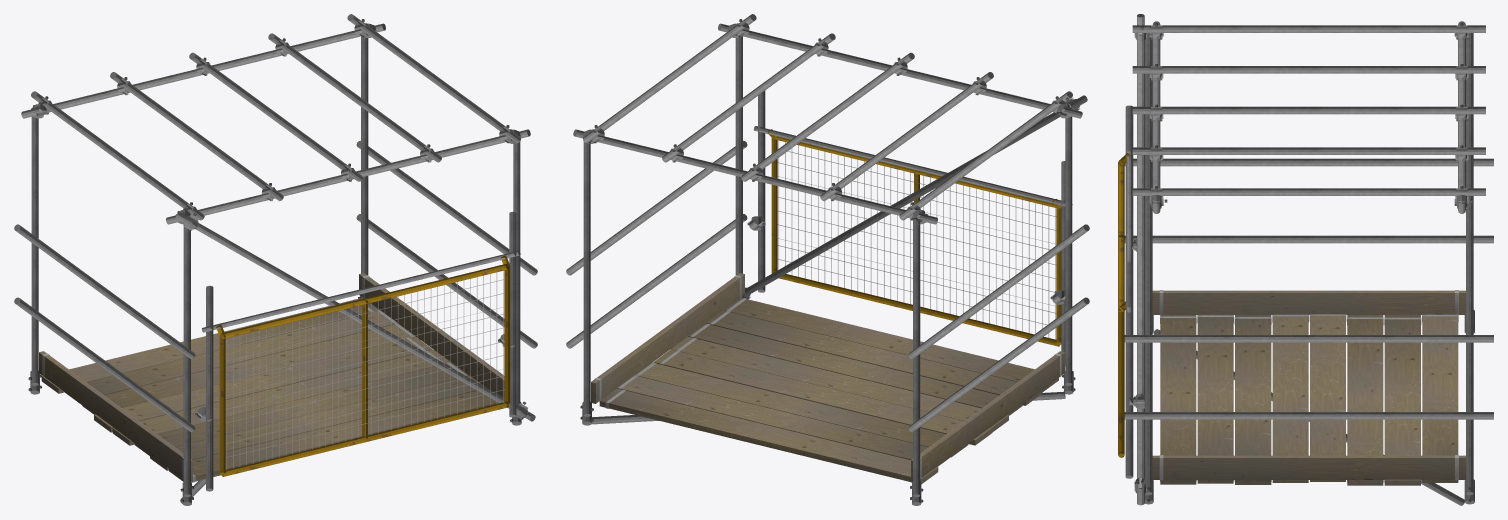
The model's file is LoadingBay.glb.
3 renders of one model, left to right at view 1: azimuth 30°, elevation 25°; view 2: azimuth 150°, elevation 25°; view 3: azimuth 270°, elevation 25°, orthographic. The views are drawn at different scales.
Parts seen in each view (by area): view 1: loading_bay_mesh, loading_gate_mesh; view 2: loading_bay_mesh, loading_gate_mesh; view 3: loading_bay_mesh, loading_gate_mesh.
Boxes of the visible parts, x1,y1,x2,y2 form: loading_bay_mesh: (14,14,537,505); loading_gate_mesh: (202,250,520,476); loading_bay_mesh: (566,14,1089,505); loading_gate_mesh: (754,126,1072,346); loading_bay_mesh: (1124,14,1493,505); loading_gate_mesh: (1118,150,1131,457).
Size of the model in its own units: 2.74 by 2.17 by 2.34.
Materials: 5 (5 with a texture image).
